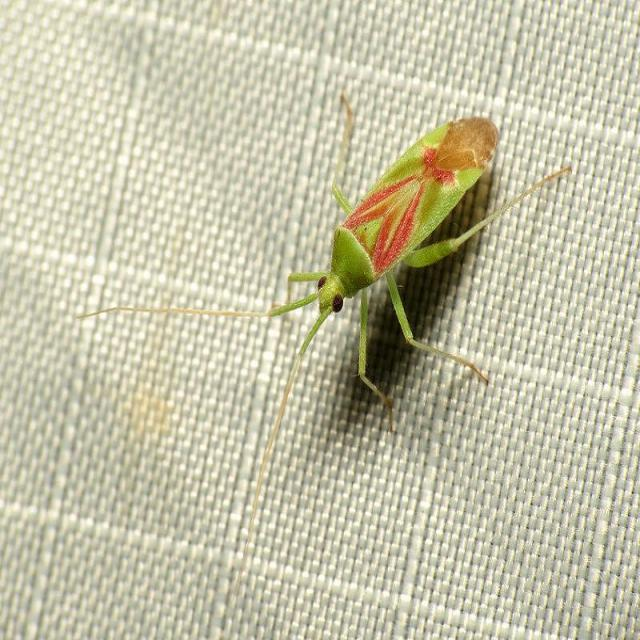Miridae-Adult-: (185, 86, 580, 416)
